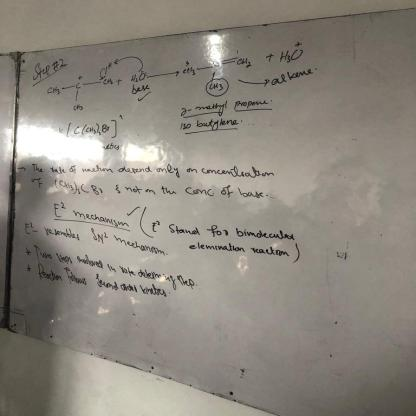Handwritten text: (27, 242, 204, 295), (29, 260, 174, 310), (26, 161, 282, 184), (124, 182, 269, 203), (165, 219, 300, 241), (188, 242, 293, 260), (69, 208, 133, 232), (111, 233, 169, 257), (193, 98, 271, 114), (271, 65, 318, 87), (194, 116, 242, 133), (40, 225, 82, 241), (127, 82, 151, 95), (27, 175, 47, 189)
Whiteboard: (3, 8, 416, 397)
